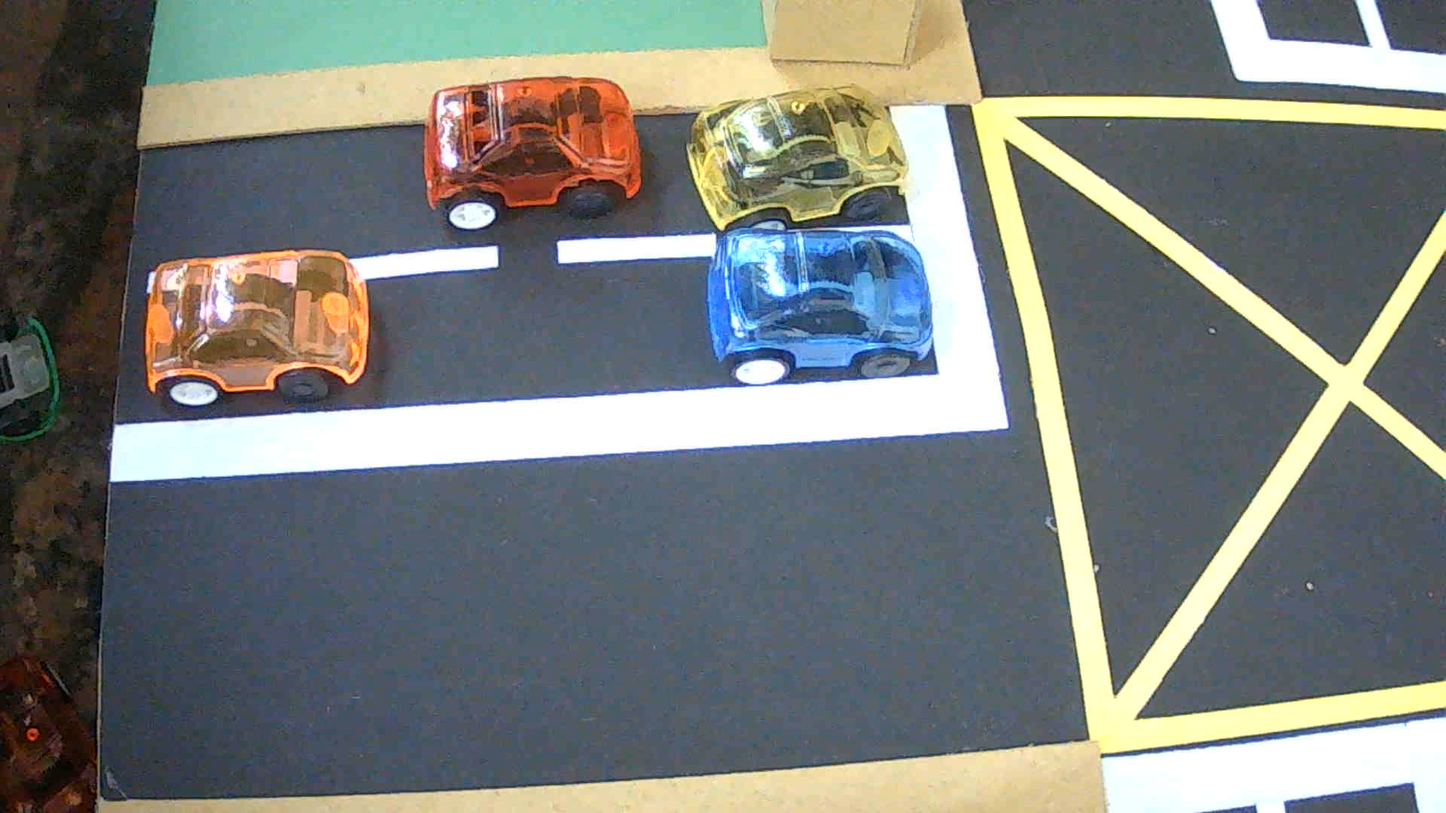Mobil biru: (707, 227, 933, 384)
Mobil kuning: (686, 85, 908, 230)
Mobil merah: (424, 77, 642, 230)
Mobil orange: (142, 249, 370, 407)
